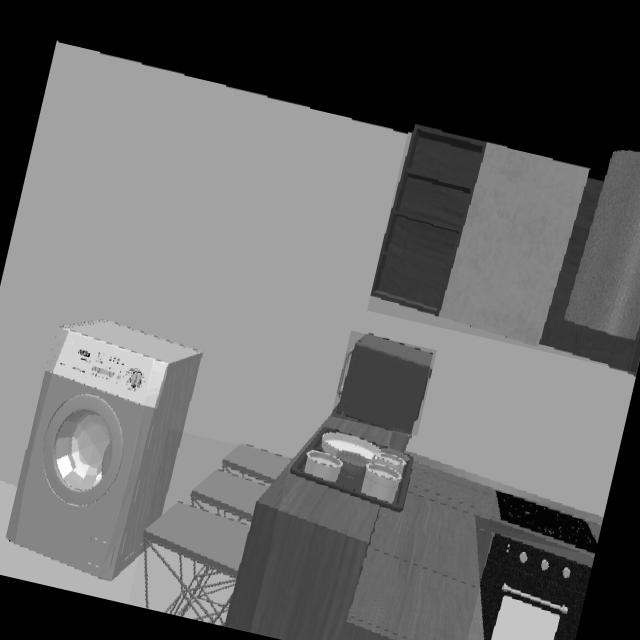cabinet: (372, 129, 640, 371)
chair: (145, 445, 290, 624)
microwave: (337, 334, 433, 433)
oven: (479, 534, 591, 640)
stove: (496, 491, 597, 551)
